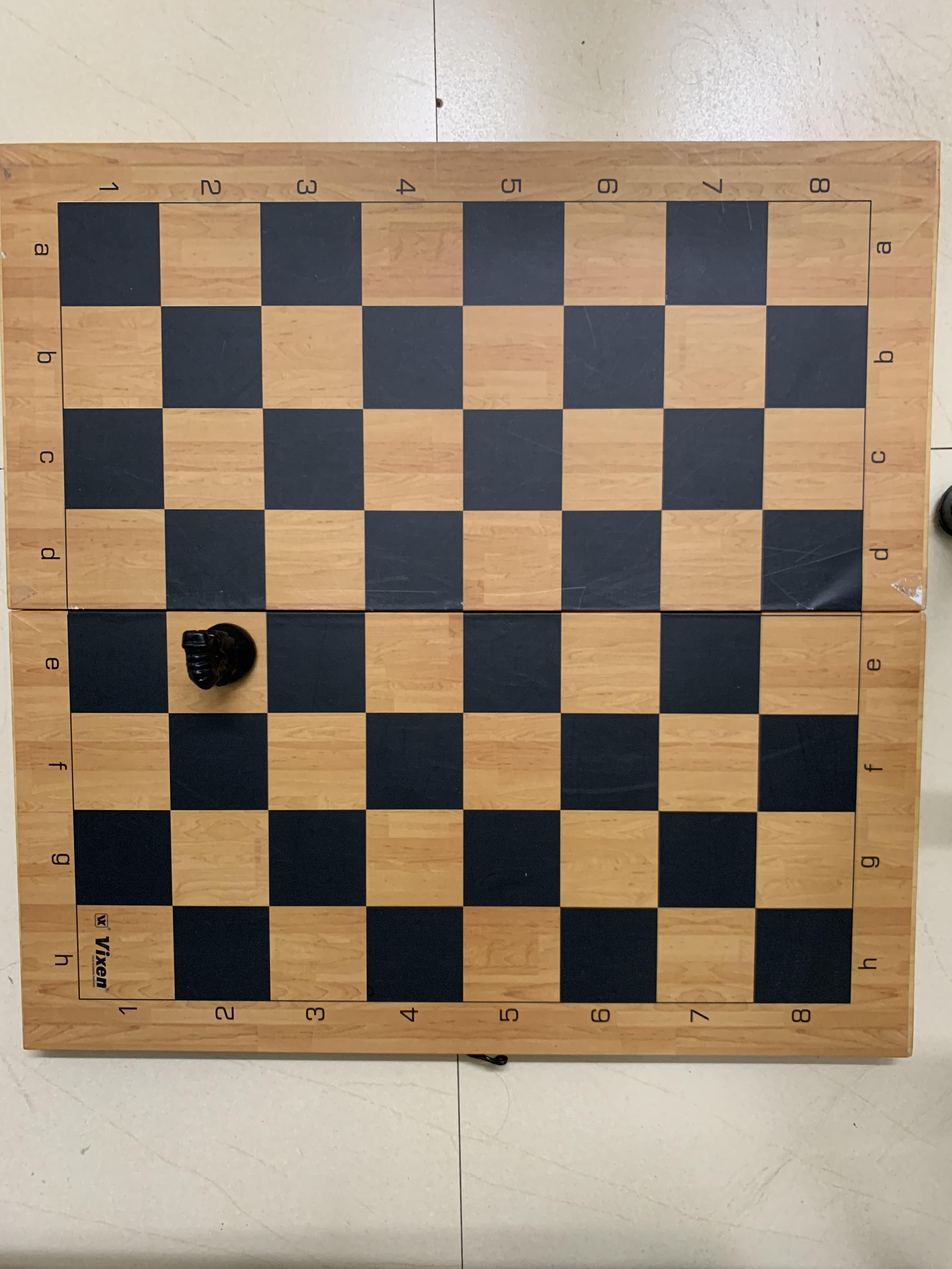black_knight: (165, 609, 270, 712)
